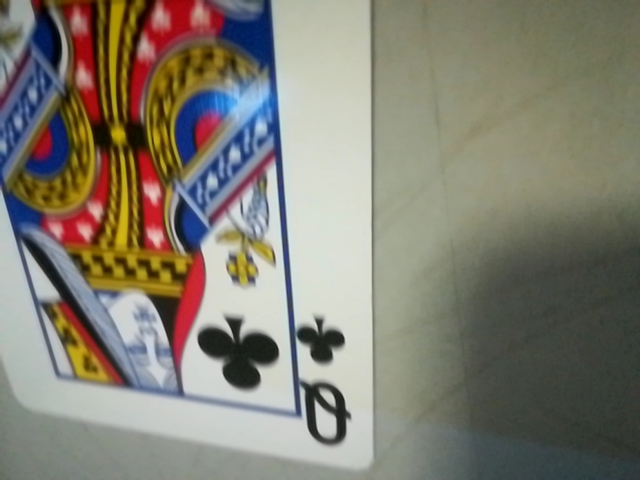mh q: (285, 306, 369, 457)
